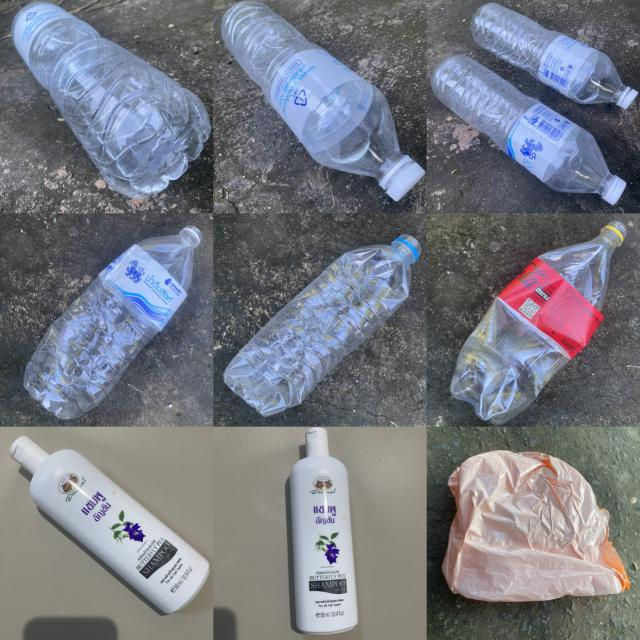HDPE Plastic: (10, 436, 209, 614), (290, 428, 358, 634)
Single-layer Plastic: (442, 450, 630, 601)
